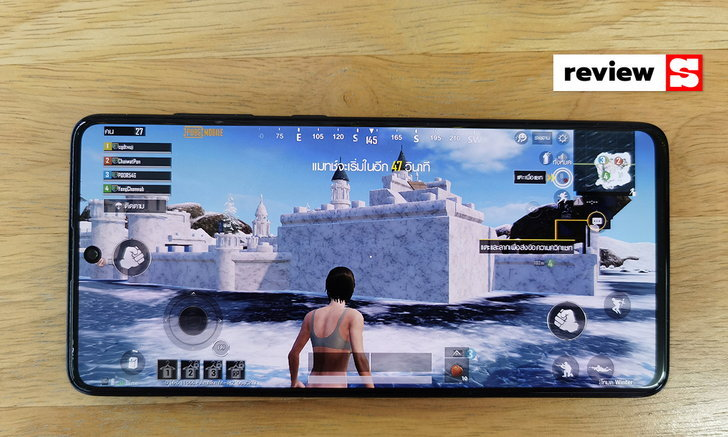Phone: (64, 108, 676, 404)
